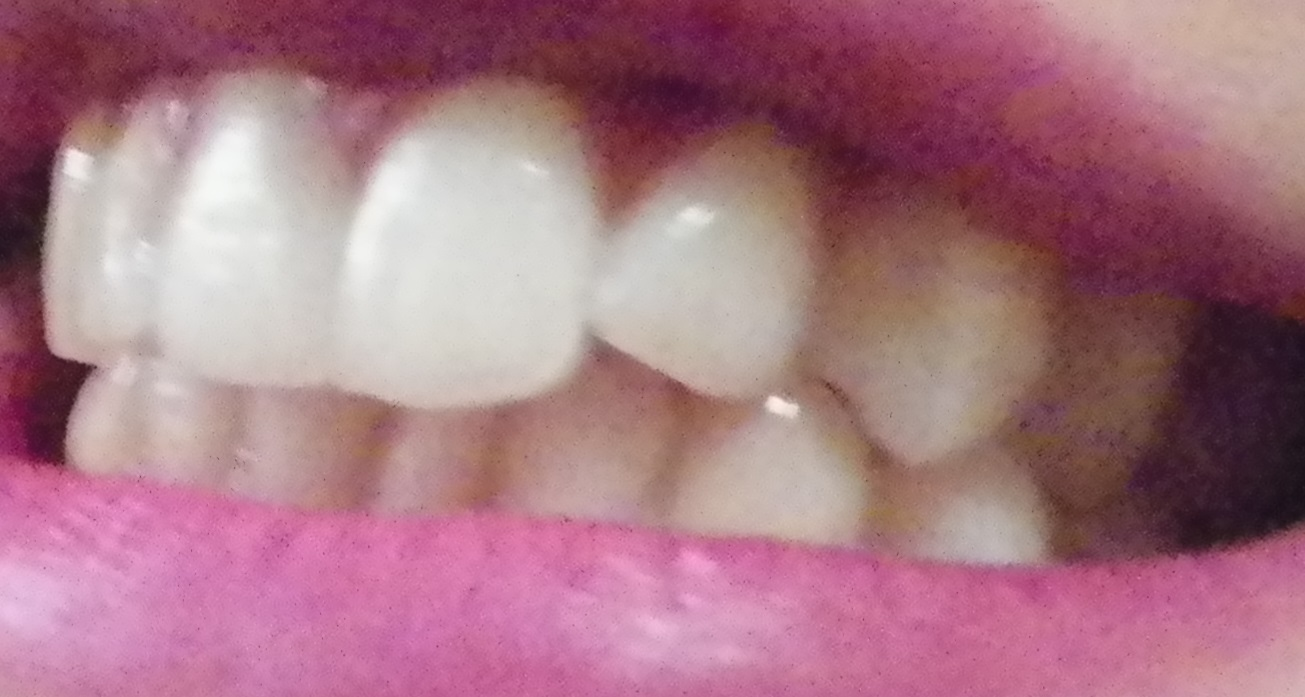boca: (26, 82, 1199, 562)
